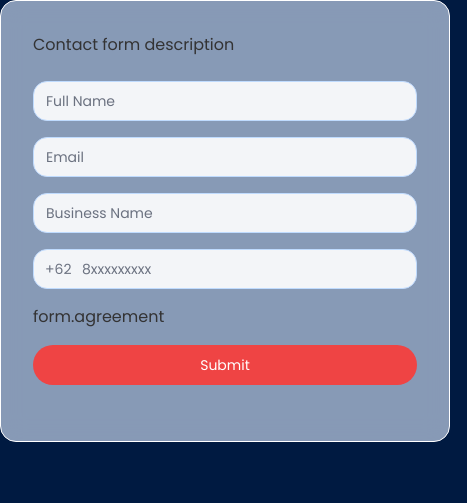
Scenario: ContactForm › handles API errors correctly
Note: Isi data form yang valid
Type "John Doe" into the field with placeholder "Full Name" at (225, 101), box [33,81,417,121]
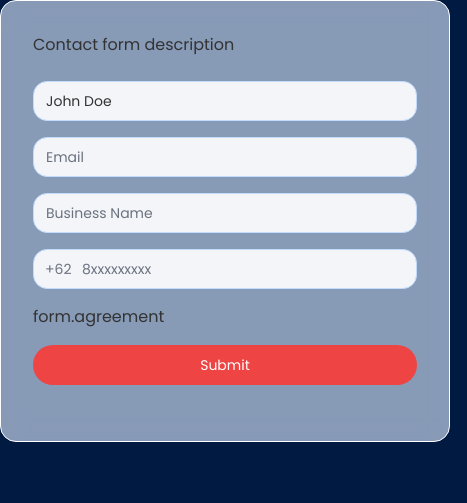
Type "john@example.com" into the field with placeholder "Email" at (225, 157), box [33,137,417,177]
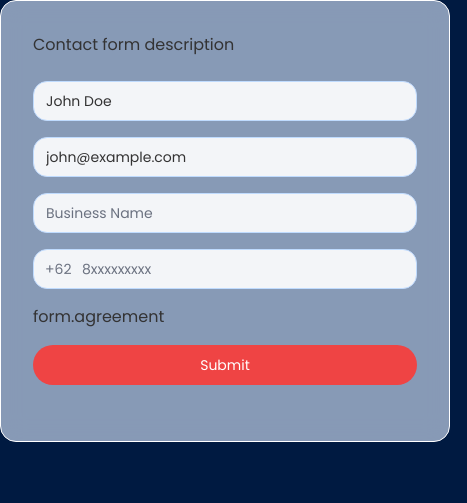
Type "ACME Corp" into the field with placeholder "Business Name" at (225, 213), box [33,193,417,233]
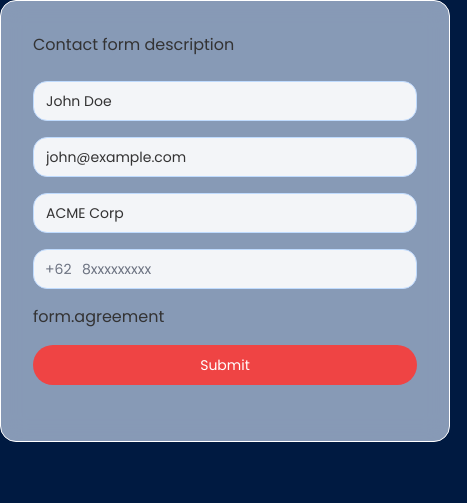
Type "81234567890" into the field with placeholder "8xxxxxxxxx" at (225, 269), box [33,249,417,289]
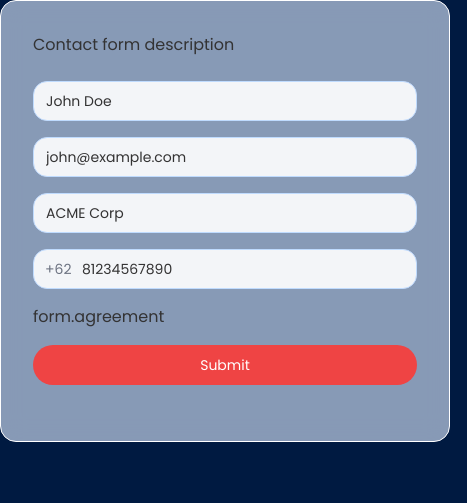
Note: Simulasikan klik Submit
Click the button "Submit" at (225, 365), box [33,345,417,385]
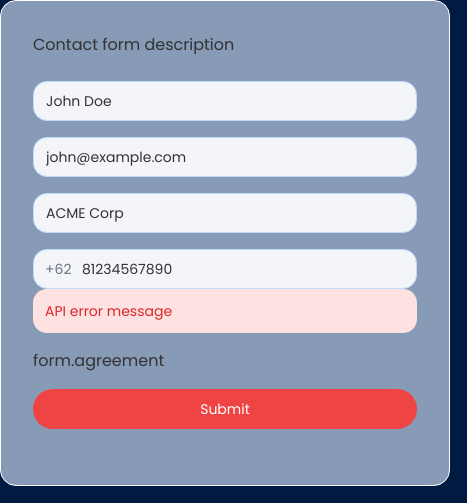
Expected: the message reads "API error message", [45,301,172,321]
